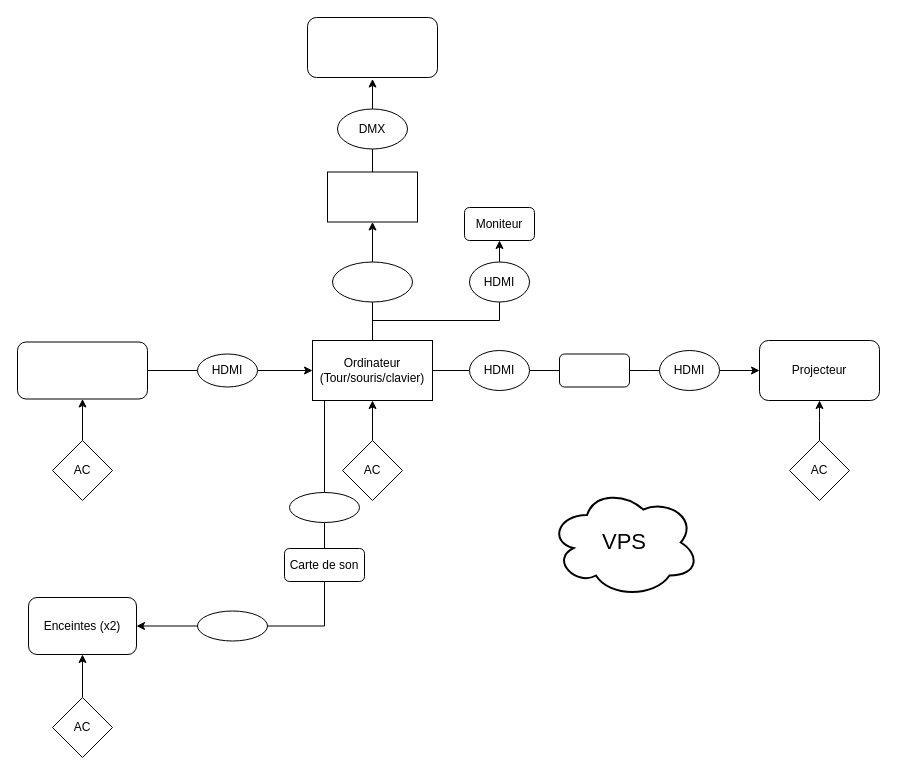
The diagram is 897 pixels wide and 775 high, and some of its shapes have lost their labels. The shapes that lost their labels are listed below. From the top down, each one's centre as x and y in pixels, then its label:
the point at 372,47: Éclairage (x6) RGBW
the point at 372,196: Convertisseur Ethernet/DMX
the point at 372,281: Ethernet
the point at 82,370: Caméra A6000 (x4)
the point at 594,370: Extender
the point at 324,507: USB
the point at 232,625: TRS
